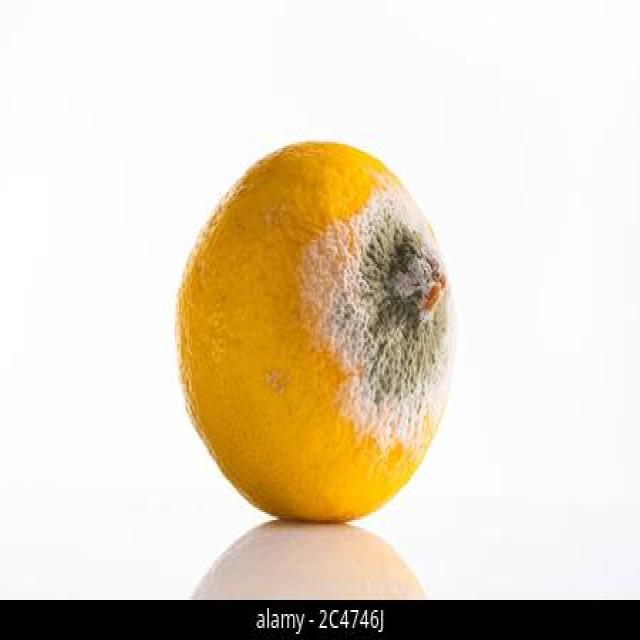Rotten: (172, 140, 457, 528)
